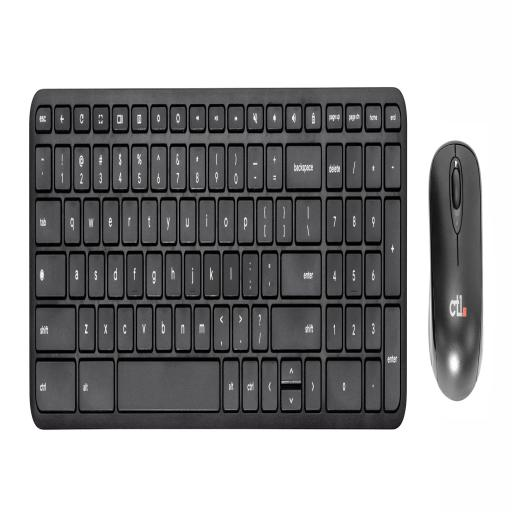keyboard: (28, 69, 410, 430)
